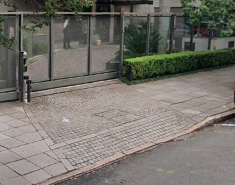vag29: (64, 104, 196, 185)
